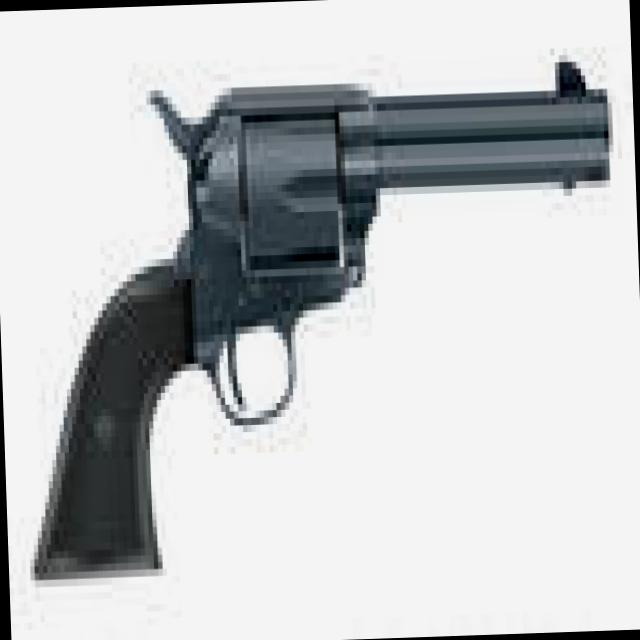handgun: (8, 46, 618, 572)
